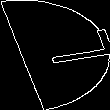L_W: (10, 34, 100, 76)
